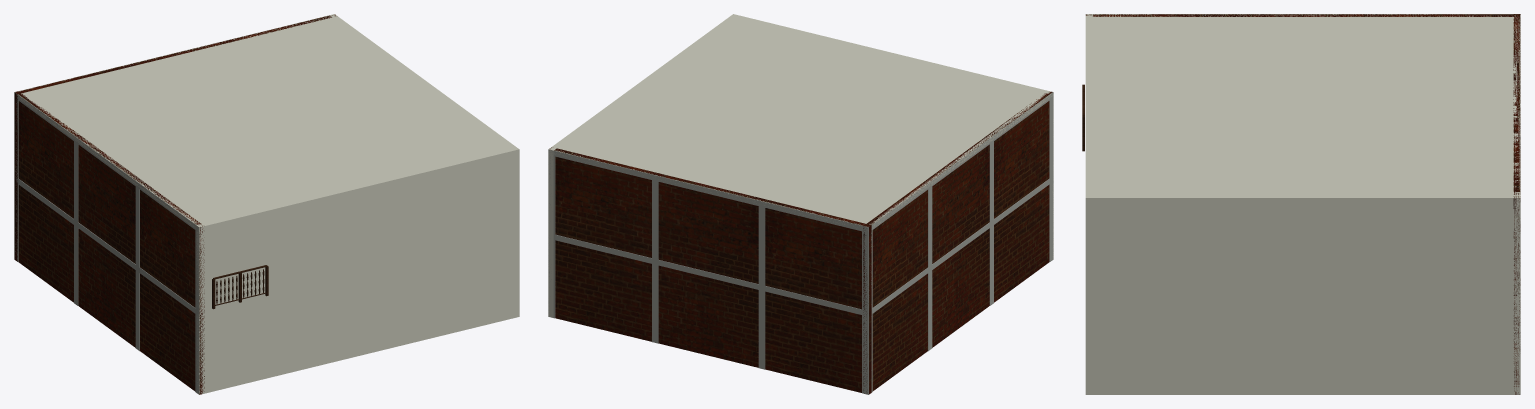
The model's file is building.glb.
3 views of the same model, side by side, from view 1: azimuth 30°, elevation 25°; view 2: azimuth 150°, elevation 25°; view 3: azimuth 270°, elevation 25° (orthographic). The views are drawn at different scales.
Parts seen in each view (by area): view 1: roof/house:0/roof_slab#0001, house:0/edge0/z0/house:0/edge0/z0/wall_0_0, house:0/edge3/z0/house:0/edge3/z0/wall_0_0, house:0/edge2/z0/house:0/edge2/z0/wall_0_0, house:0/edge3/z0/house:0/edge3/z0/beam_0_0, house:0/edge3/z0/house:0/edge3/z0/beam_1_0, house:0/edge1/z0/house:0/edge1/z0/wall_0_0; view 2: roof/house:0/roof_slab#0001, house:0/edge2/z0/house:0/edge2/z0/wall_0_0, house:0/edge3/z0/house:0/edge3/z0/wall_0_0, house:0/edge2/z0/house:0/edge2/z0/beam_1_0, house:0/edge1/z0/house:0/edge1/z0/wall_0_0, house:0/edge2/z0/house:0/edge2/z0/beam_0_0, house:0/edge0/z0/house:0/edge0/z0/wall_0_0, house:0/edge3/z0/house:0/edge3/z0/beam_0_0, house:0/edge3/z0/house:0/edge3/z0/beam_1_0, house:0/edge2/z0/house:0/edge2/z0/column_3_0, house:0/edge2/z0/house:0/edge2/z0/column_3_1, house:0/edge2/z0/house:0/edge2/z0/column_1_0 (+3 smaller); view 3: house:0/edge1/z0/house:0/edge1/z0/wall_0_0, roof/house:0/roof_slab#0001, house:0/edge0/z0/house:0/edge0/z0/wall_0_0, house:0/edge2/z0/house:0/edge2/z0/wall_0_0, house:0/edge3/z0/house:0/edge3/z0/wall_0_0, house:0/edge3/z0/house:0/edge3/z0/beam_1_0.
Part boxes in pixels (x1=…): roof/house:0/roof_slab#0001: x1=16, y1=15, x2=516, y2=230; house:0/edge0/z0/house:0/edge0/z0/wall_0_0: x1=196, y1=147, x2=519, y2=394; house:0/edge3/z0/house:0/edge3/z0/wall_0_0: x1=15, y1=91, x2=204, y2=394; house:0/edge2/z0/house:0/edge2/z0/wall_0_0: x1=14, y1=14, x2=335, y2=261; house:0/edge3/z0/house:0/edge3/z0/beam_0_0: x1=14, y1=177, x2=199, y2=315; house:0/edge3/z0/house:0/edge3/z0/beam_1_0: x1=15, y1=92, x2=198, y2=231; house:0/edge1/z0/house:0/edge1/z0/wall_0_0: x1=330, y1=14, x2=519, y2=270; roof/house:0/roof_slab#0001: x1=551, y1=15, x2=1053, y2=230; house:0/edge2/z0/house:0/edge2/z0/wall_0_0: x1=549, y1=147, x2=871, y2=394; house:0/edge3/z0/house:0/edge3/z0/wall_0_0: x1=863, y1=91, x2=1052, y2=393; house:0/edge2/z0/house:0/edge2/z0/beam_1_0: x1=548, y1=149, x2=868, y2=232; house:0/edge1/z0/house:0/edge1/z0/wall_0_0: x1=548, y1=15, x2=735, y2=317; house:0/edge2/z0/house:0/edge2/z0/beam_0_0: x1=553, y1=234, x2=868, y2=316; house:0/edge0/z0/house:0/edge0/z0/wall_0_0: x1=731, y1=14, x2=1053, y2=258; house:0/edge3/z0/house:0/edge3/z0/beam_0_0: x1=871, y1=176, x2=1053, y2=313; house:0/edge3/z0/house:0/edge3/z0/beam_1_0: x1=868, y1=92, x2=1053, y2=232; house:0/edge2/z0/house:0/edge2/z0/column_3_0: x1=758, y1=206, x2=765, y2=285; house:0/edge2/z0/house:0/edge2/z0/column_3_1: x1=758, y1=290, x2=765, y2=369; house:0/edge2/z0/house:0/edge2/z0/column_1_0: x1=862, y1=315, x2=868, y2=394; house:0/edge1/z0/house:0/edge1/z0/wall_0_0: x1=1085, y1=194, x2=1520, y2=394; roof/house:0/roof_slab#0001: x1=1085, y1=14, x2=1520, y2=201; house:0/edge0/z0/house:0/edge0/z0/wall_0_0: x1=1085, y1=14, x2=1092, y2=394; house:0/edge2/z0/house:0/edge2/z0/wall_0_0: x1=1513, y1=14, x2=1520, y2=394; house:0/edge3/z0/house:0/edge3/z0/wall_0_0: x1=1086, y1=14, x2=1520, y2=16; house:0/edge3/z0/house:0/edge3/z0/beam_1_0: x1=1093, y1=14, x2=1513, y2=14.
Bounding box in the file's own units: 12 × 6 × 12.1.
4 materials, 2 textured.
